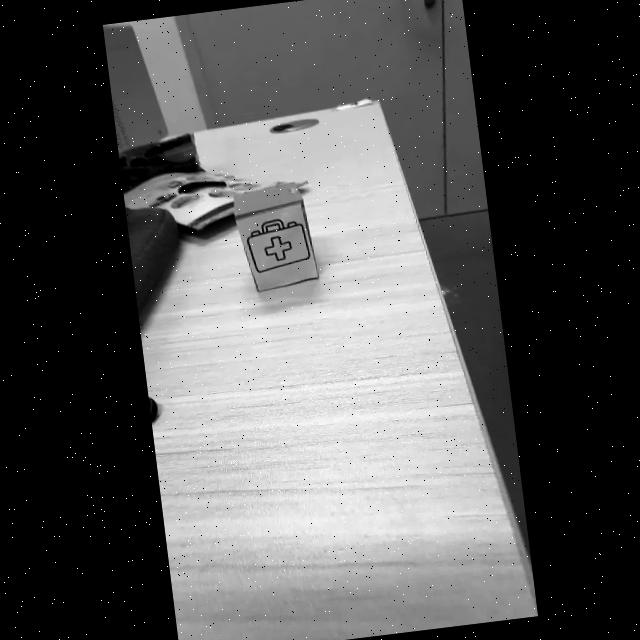Medkit: (247, 221, 309, 272)
